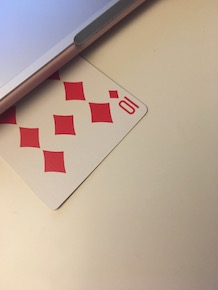TenOfDiamonds: (1, 39, 149, 212)
